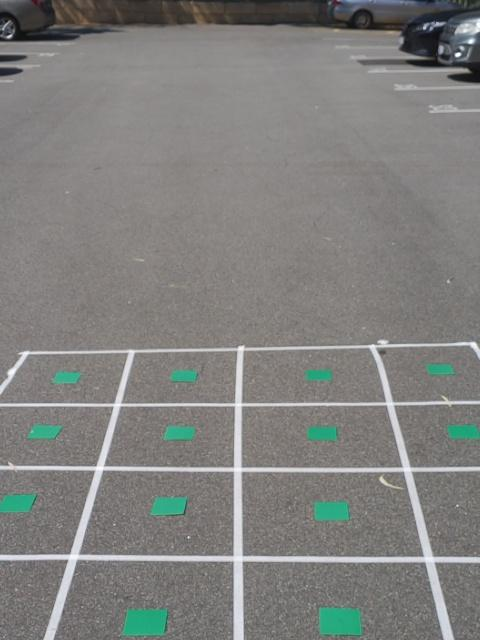weed: (318, 607, 363, 637), (122, 607, 167, 635), (0, 491, 40, 514), (314, 501, 349, 521), (152, 496, 188, 515), (163, 422, 196, 442), (446, 423, 480, 441), (306, 425, 339, 443), (424, 362, 456, 377), (173, 367, 198, 386), (56, 368, 80, 386), (31, 424, 59, 439), (305, 367, 332, 382)
